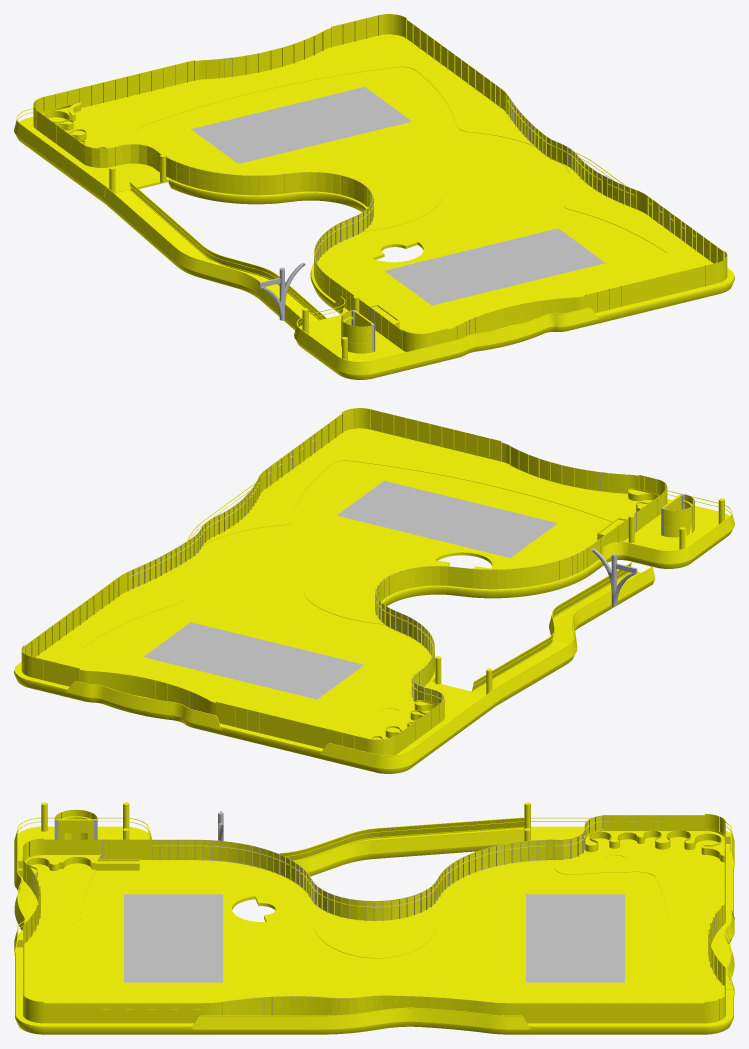
Rendered from sm_hana_building_12f_out.glb.
The picture shows the model from 3 angles, top to bottom: view 1: azimuth 30°, elevation 25°; view 2: azimuth 150°, elevation 25°; view 3: azimuth 270°, elevation 25°; orthographic projection. The views are drawn at different scales.
Visible parts, largest first — view 1: sm_hana_building_12f_out; view 2: sm_hana_building_12f_out; view 3: sm_hana_building_12f_out.
Part boxes in pixels (x1=…): sm_hana_building_12f_out: x1=14, y1=14, x2=734, y2=379; sm_hana_building_12f_out: x1=14, y1=408, x2=734, y2=773; sm_hana_building_12f_out: x1=14, y1=802, x2=734, y2=1034.
Size of the model in its own units: 66.31 by 10.24 by 100.
Materials: 13 (10 with a texture image).
